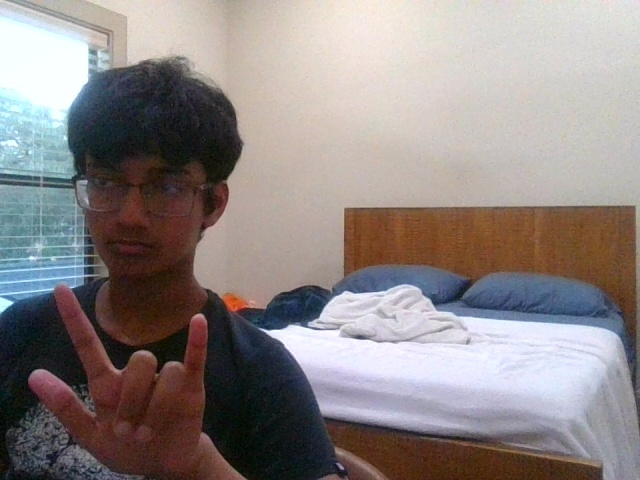ly: (28, 283, 208, 474)
